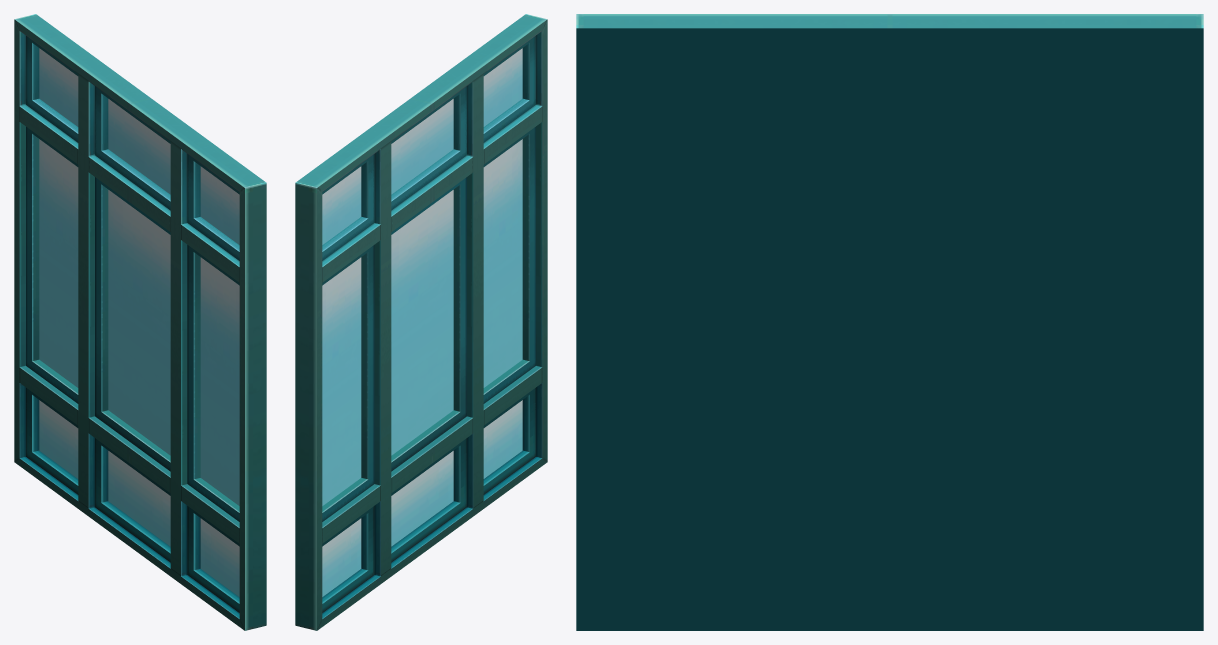
The model's file is my_autumnsports_01_window.glb.
3 views of the same model, side by side, from view 1: azimuth 30°, elevation 25°; view 2: azimuth 150°, elevation 25°; view 3: azimuth 270°, elevation 25° (orthographic). The views are drawn at different scales.
Parts seen in each view (by area): view 1: my_autumnsports_01_window; view 2: my_autumnsports_01_window; view 3: my_autumnsports_01_window.
Boxes of the visible parts, x1=… form: my_autumnsports_01_window: x1=14, y1=14, x2=266, y2=630; my_autumnsports_01_window: x1=295, y1=14, x2=547, y2=630; my_autumnsports_01_window: x1=576, y1=14, x2=1203, y2=630.
Bounding box in the file's own units: 0.000924 × 0.018 × 0.017.
Materials: 1 (1 with a texture image).
